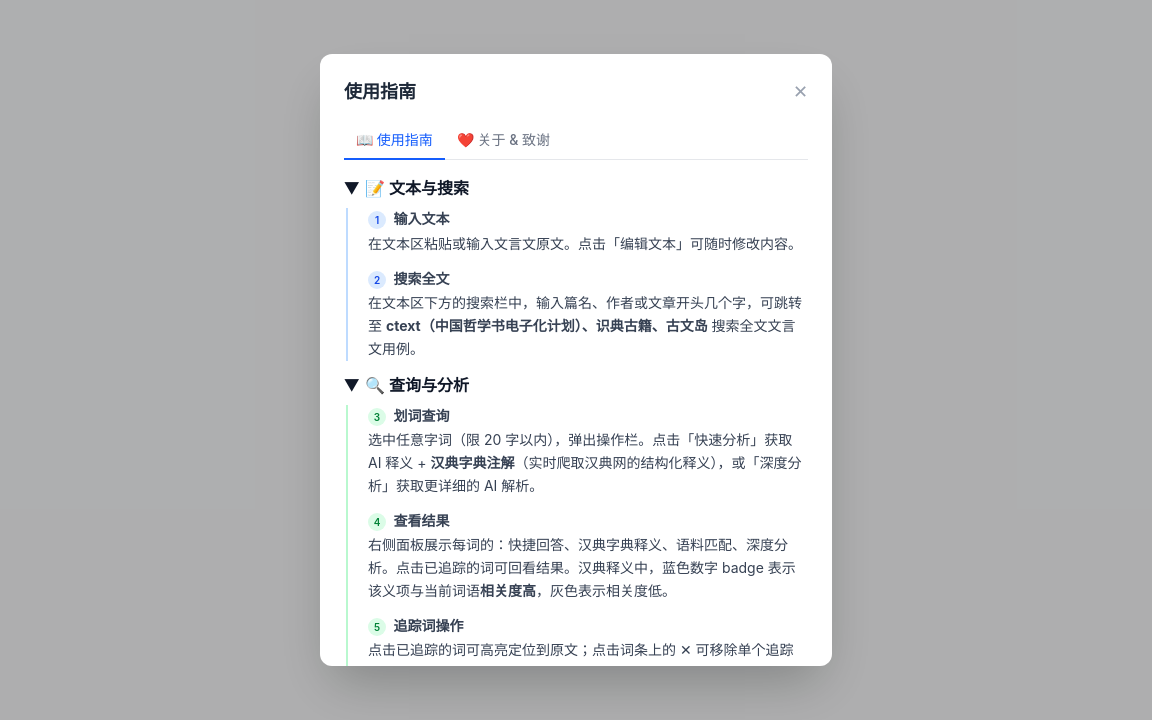
it: UsageGuide › switches to about tab
Click the button "❤️ 关于 & 致谢" at {"x": 503, "y": 141}, box [445,122,562,160]
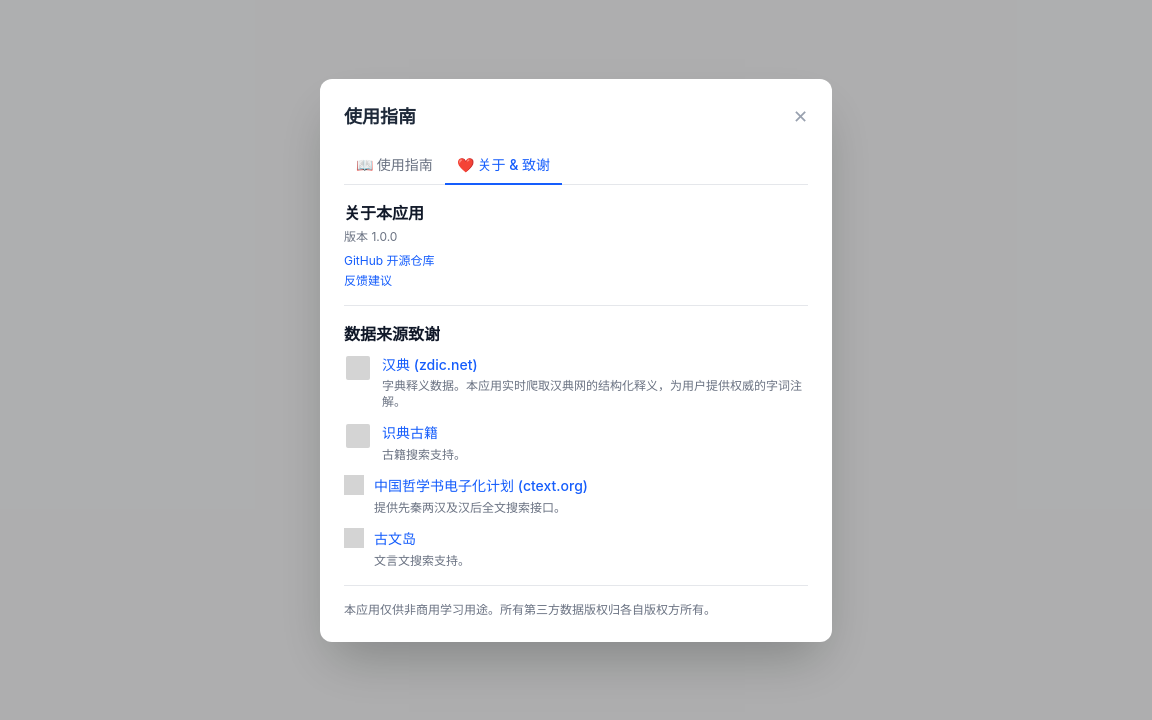
Expected: the text "关于本应用" is shown, [344,202,424,222]
